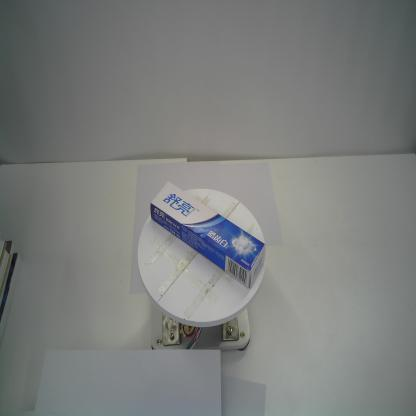Personal Hygiene: (150, 179, 266, 291)
